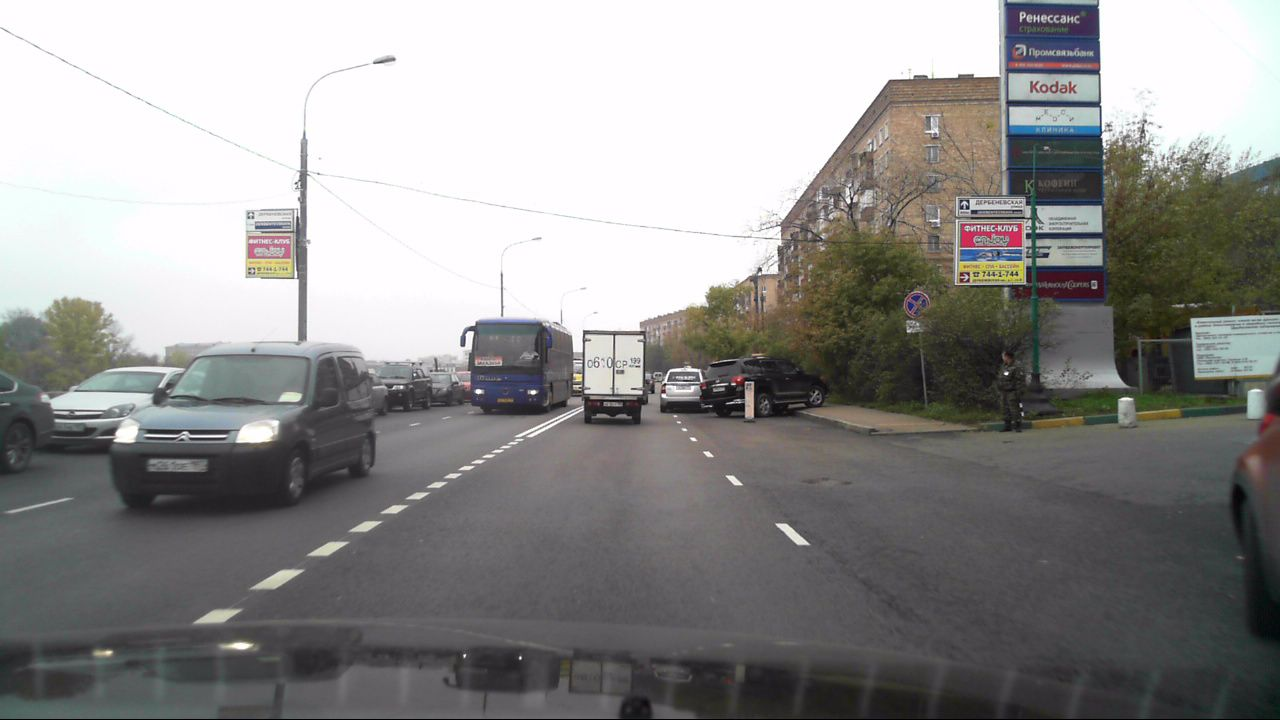No Parking: (903, 289, 929, 317)
